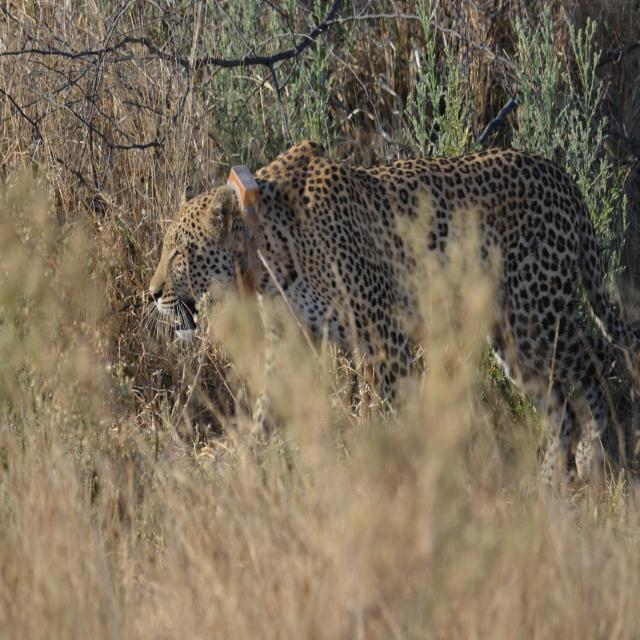Leopard: (143, 137, 623, 443)
